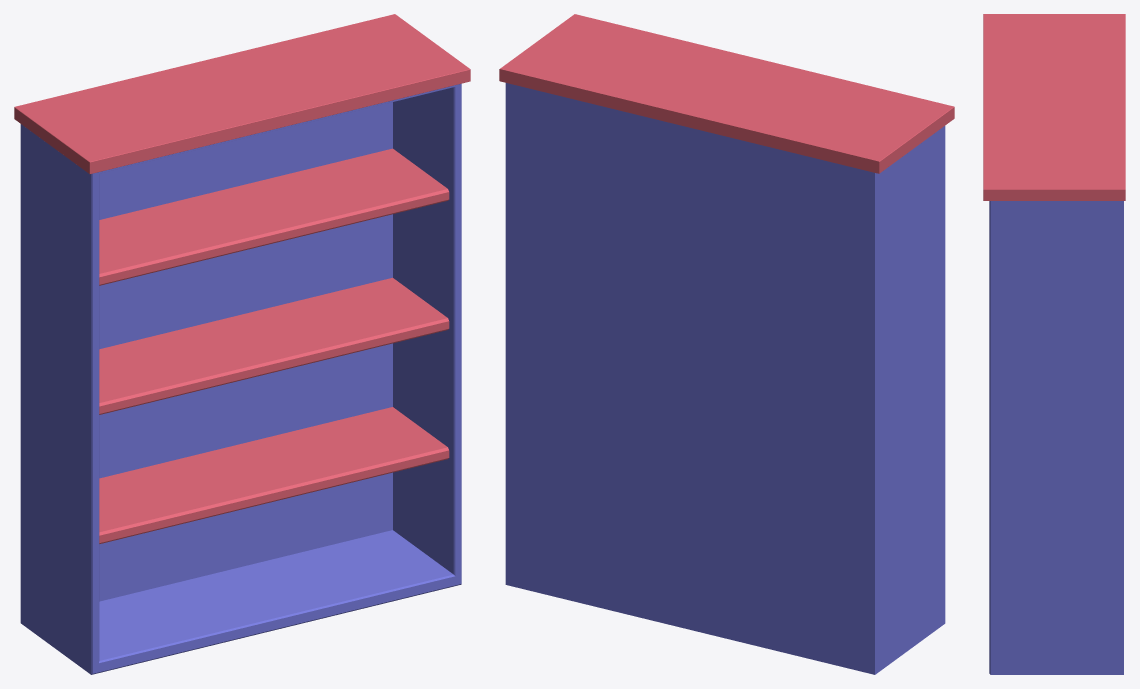
Rendered from ShelfTallUVd.fbx.
The picture shows the model from 3 angles, left to right: view 1: azimuth 30°, elevation 25°; view 2: azimuth 150°, elevation 25°; view 3: azimuth 270°, elevation 25°; orthographic projection. The views are drawn at different scales.
Visible parts, largest first — view 1: ShelfTall; view 2: ShelfTall; view 3: ShelfTall.
Part boxes in pixels (box(x1,y1,x2,y2)): ShelfTall: box(14, 14, 470, 674); ShelfTall: box(499, 14, 954, 674); ShelfTall: box(983, 14, 1125, 674).
Size of the model in its own units: 94.13 by 122 by 32.3.
